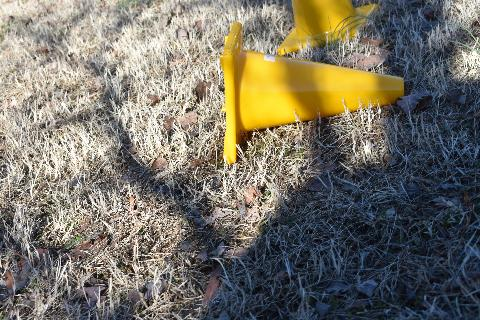cone: (219, 21, 405, 165), (276, 0, 378, 56)
